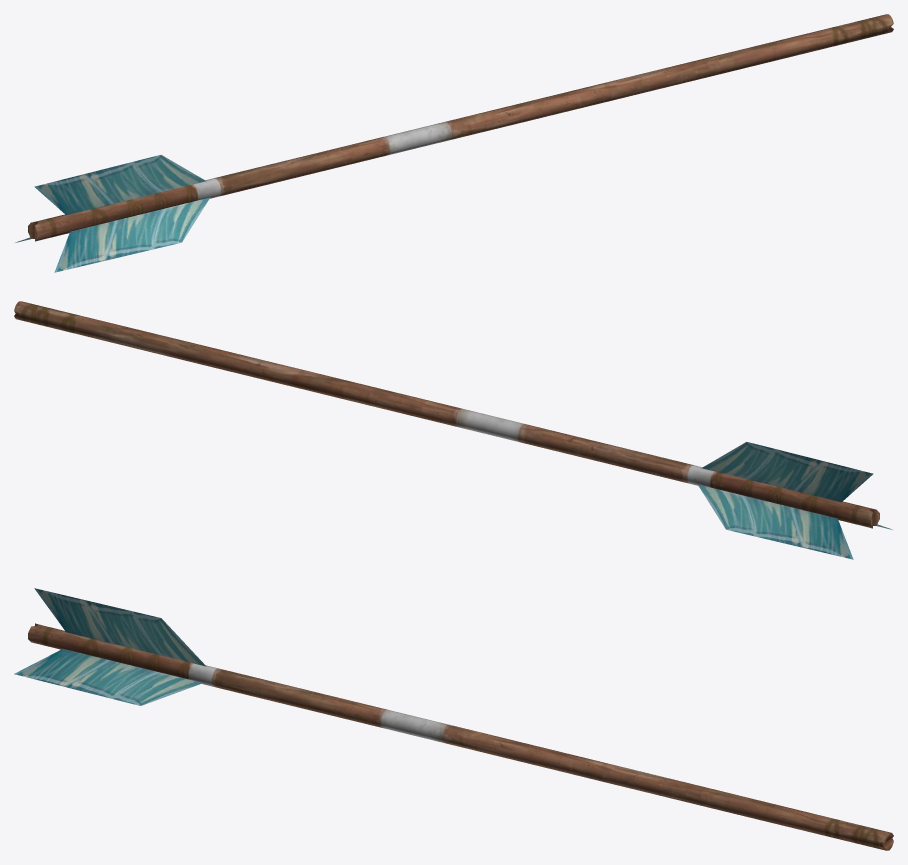
3 renders of one model, top to bottom at view 1: azimuth 30°, elevation 25°; view 2: azimuth 150°, elevation 25°; view 3: azimuth 330°, elevation 25°, orthographic.
Parts seen in each view (by area): view 1: SM_ArrowBody_Wood_02_LOD0; view 2: SM_ArrowBody_Wood_02_LOD0; view 3: SM_ArrowBody_Wood_02_LOD0.
Boxes of the visible parts, left/top/right/bottom form: SM_ArrowBody_Wood_02_LOD0: left=15, top=14, right=893, bottom=272; SM_ArrowBody_Wood_02_LOD0: left=14, top=301, right=892, bottom=559; SM_ArrowBody_Wood_02_LOD0: left=14, top=588, right=893, bottom=850.
Size of the model in its own units: 0.8927 by 0.0725 by 0.0747.
1 material, 1 textured.
